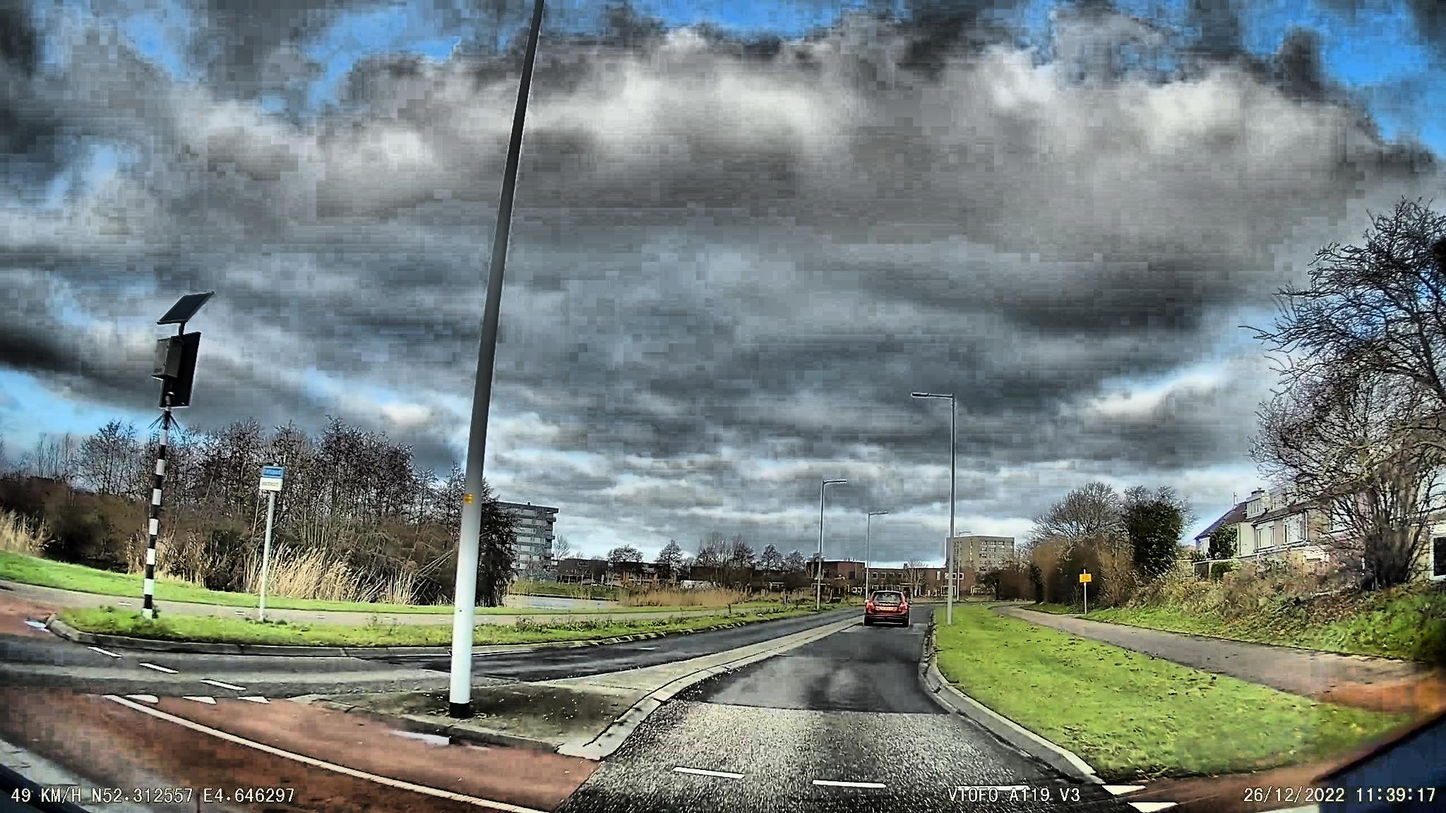Roads: (543, 624, 1148, 813)
